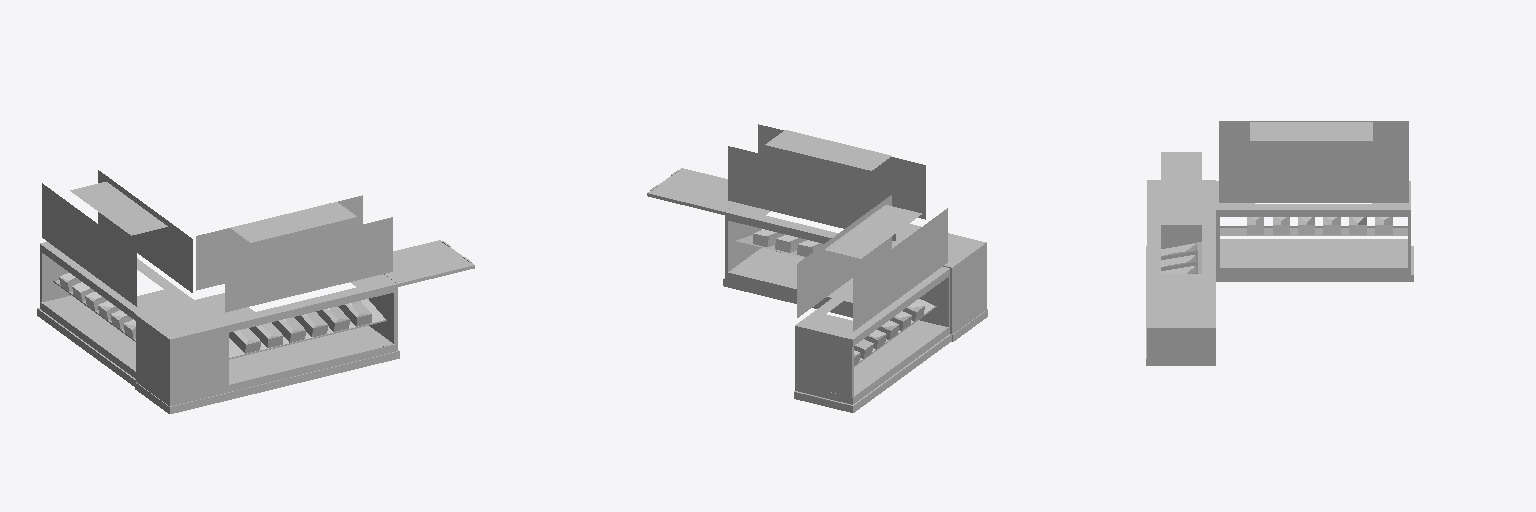
Rendered from Prize Counter Untextured.obj.
3 renders of one model, left to right at view 1: azimuth 30°, elevation 25°; view 2: azimuth 150°, elevation 25°; view 3: azimuth 270°, elevation 25°, orthographic.
Visible parts, largest first — view 1: group19 group18 group17 pasted__pCube1, group19 group18 group17 pPlane1, group19 group18 group17 pCube1, group19 group18 group17 pasted__pasted__pCube1, group19 group18 group17 pasted__pPlane1, pasted__pPlane3 group19 group18 group17, group19 group18 group17 pasted__pasted__pPlane1, group19 group18 group17 pCube2, group19 group18 group17 pasted__pPlane2, group19 group18 group17 pPlane2, group19 group18 group17 pasted__pasted__pasted__pasted__pasted__, group19 group18 group17 pCube5 (+6 smaller); view 2: group19 group18 group17 pasted__pasted__pCube1, pasted__pPlane3 group19 group18 group17, group19 group18 group17 pasted__pCube1, group19 group18 group17 pasted__pPlane1, group19 group18 group17 pCube1, group19 group18 group17 pPlane1, group19 group18 group17 pasted__pasted__pPlane1, group19 group18 group17 pCube5, group19 group18 group17 pCube2, group19 group18 group17 pasted__pPlane2, group19 group18 group17 pPlane2, group19 group18 group17 pCube4 (+1 smaller); view 3: group19 group18 group17 pasted__pasted__pCube1, group19 group18 group17 pasted__pasted__pPlane1, group19 group18 group17 pasted__pCube1, group19 group18 group17 pasted__pPlane1, group19 group18 group17 pCube2, group19 group18 group17 pasted__pPlane2, group19 group18 group17 pPlane2, group19 group18 group17 pCube1, group19 group18 group17 pCube4, group19 group18 group17 pasted__pasted__pasted__pasted__pasted__.
Part boxes in pixels (x1,y1,x2,y2): group19 group18 group17 pasted__pCube1: (195, 274, 399, 399); group19 group18 group17 pPlane1: (225, 217, 392, 312); group19 group18 group17 pCube1: (135, 300, 228, 413); group19 group18 group17 pasted__pasted__pCube1: (37, 242, 193, 386); group19 group18 group17 pasted__pPlane1: (42, 183, 136, 306); pasted__pPlane3 group19 group18 group17: (196, 195, 362, 290); group19 group18 group17 pasted__pasted__pPlane1: (98, 170, 192, 292); group19 group18 group17 pCube2: (384, 240, 474, 286); group19 group18 group17 pasted__pPlane2: (70, 182, 167, 235); group19 group18 group17 pPlane2: (231, 202, 356, 242); group19 group18 group17 pasted__pasted__pasted__pasted__pasted__: (110, 301, 371, 338); group19 group18 group17 pCube5: (40, 251, 70, 301); group19 group18 group17 pasted__pasted__pCube1: (794, 267, 951, 412); pasted__pPlane3 group19 group18 group17: (728, 146, 895, 240); group19 group18 group17 pasted__pCube1: (723, 203, 920, 317); group19 group18 group17 pasted__pPlane1: (853, 208, 947, 331); group19 group18 group17 pCube1: (943, 233, 987, 341); group19 group18 group17 pPlane1: (758, 124, 925, 219); group19 group18 group17 pasted__pasted__pPlane1: (797, 195, 891, 317); group19 group18 group17 pCube5: (795, 333, 853, 397); group19 group18 group17 pCube2: (647, 168, 735, 214); group19 group18 group17 pasted__pPlane2: (825, 205, 921, 258); group19 group18 group17 pPlane2: (765, 130, 891, 170); group19 group18 group17 pCube4: (728, 221, 761, 271); group19 group18 group17 pasted__pasted__pCube1: (1216, 181, 1413, 281); group19 group18 group17 pasted__pasted__pPlane1: (1219, 148, 1408, 202); group19 group18 group17 pasted__pCube1: (1146, 208, 1215, 365); group19 group18 group17 pasted__pPlane1: (1219, 121, 1408, 147); group19 group18 group17 pCube2: (1147, 291, 1215, 331); group19 group18 group17 pasted__pPlane2: (1250, 122, 1372, 140); group19 group18 group17 pPlane2: (1161, 152, 1201, 203); group19 group18 group17 pCube1: (1146, 180, 1215, 274); group19 group18 group17 pCube4: (1149, 332, 1213, 349); group19 group18 group17 pasted__pasted__pasted__pasted__pasted__: (1247, 217, 1289, 234).
Size of the model in its own units: 744 by 336 by 562.